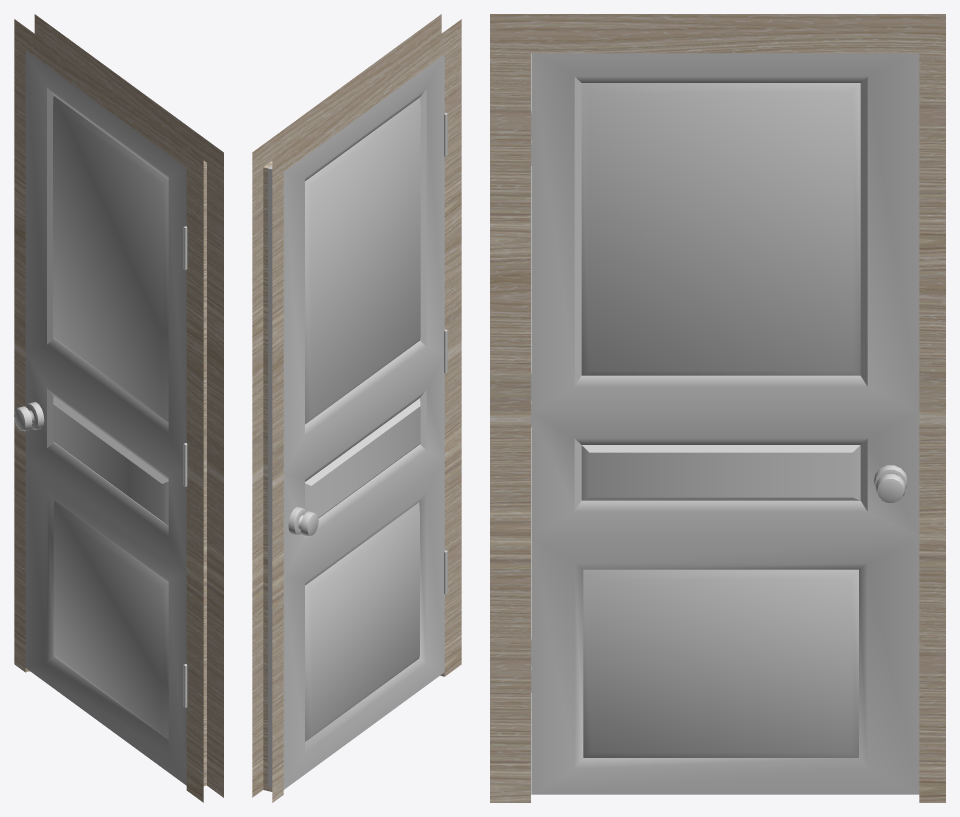
File: FLAT_door_01.FBX
The picture shows the model from 3 angles, left to right: view 1: azimuth 30°, elevation 25°; view 2: azimuth 150°, elevation 25°; view 3: azimuth 270°, elevation 25°; orthographic projection. The views are drawn at different scales.
Parts seen in each view (by area): view 1: FLAT_door_01_door, FLAT_door_01_doorway; view 2: FLAT_door_01_door, FLAT_door_01_doorway; view 3: FLAT_door_01_door, FLAT_door_01_doorway.
Boxes of the visible parts, x1,y1,x2,y2 form: FLAT_door_01_door: [25, 50, 186, 785]; FLAT_door_01_doorway: [14, 14, 223, 802]; FLAT_door_01_door: [268, 54, 444, 789]; FLAT_door_01_doorway: [252, 14, 461, 802]; FLAT_door_01_door: [531, 53, 919, 794]; FLAT_door_01_doorway: [490, 14, 945, 802].
Bounding box in the file's own units: 24.5 × 284 × 151.
Materials: 1 (1 with a texture image).
